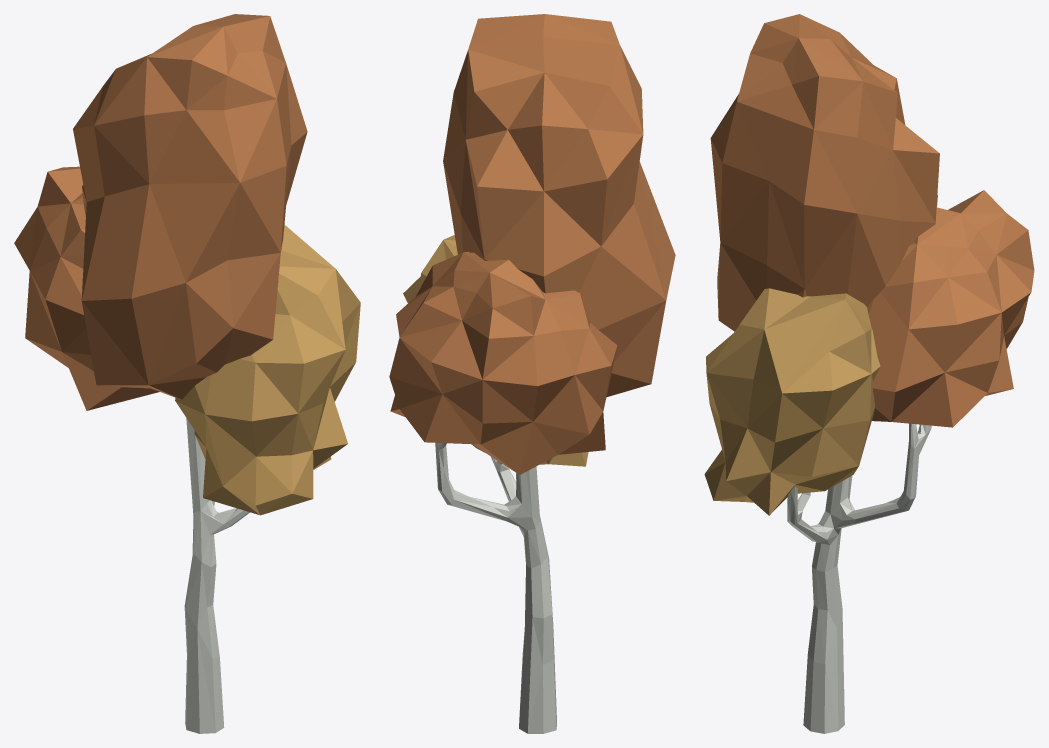
File: BirchTree_Autumn_3.lod1.glb
The picture shows the model from 3 angles, left to right: view 1: azimuth 30°, elevation 25°; view 2: azimuth 150°, elevation 25°; view 3: azimuth 270°, elevation 25°; orthographic projection. The views are drawn at different scales.
Visible parts, largest first — view 1: BirchTree_Autumn_3; view 2: BirchTree_Autumn_3; view 3: BirchTree_Autumn_3.
Boxes of the visible parts, left/top/right/bottom form: BirchTree_Autumn_3: left=14, top=14, right=360, bottom=733; BirchTree_Autumn_3: left=389, top=14, right=675, bottom=733; BirchTree_Autumn_3: left=704, top=14, right=1034, bottom=733.
Size of the model in its own units: 1.58 by 4.09 by 1.77.
